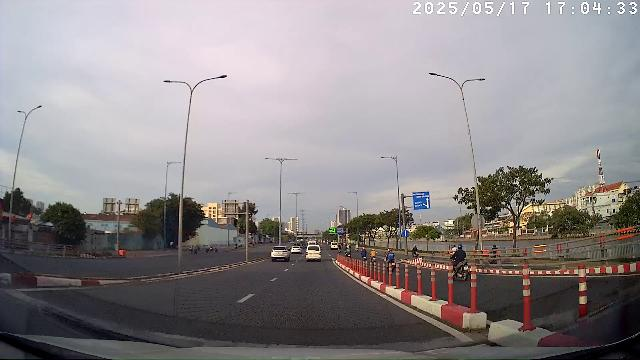301a-cac-xe-chi-duoc-di-thang: (402, 230, 409, 237)
